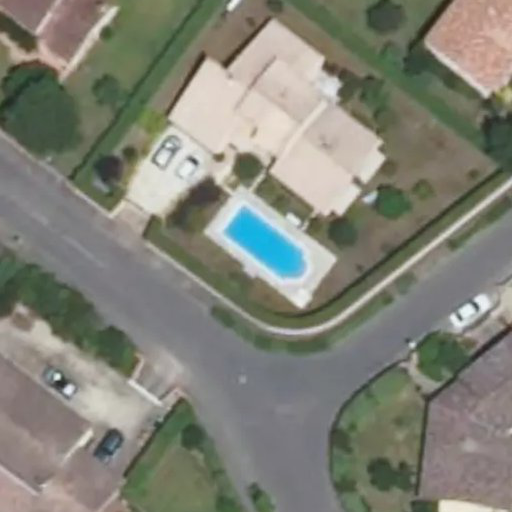pool: (206, 232, 318, 260)
